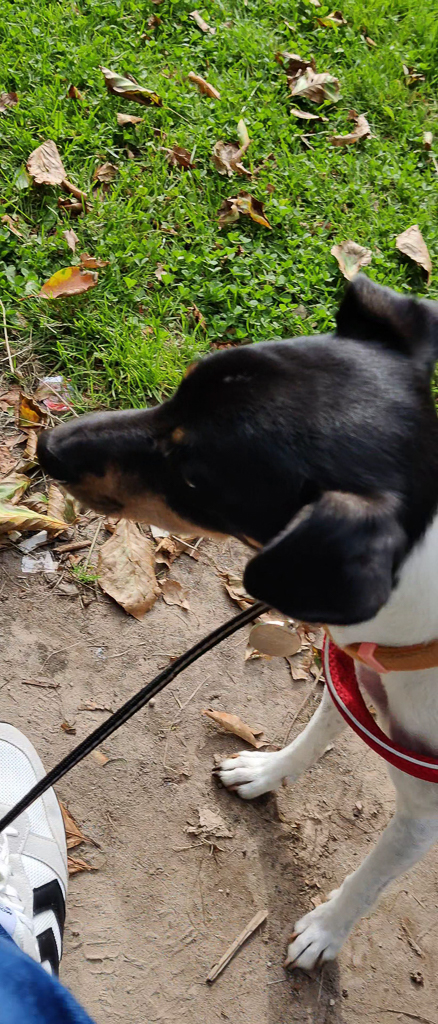Dog: (37, 261, 438, 980)
Humanoid: (0, 684, 109, 1024)
